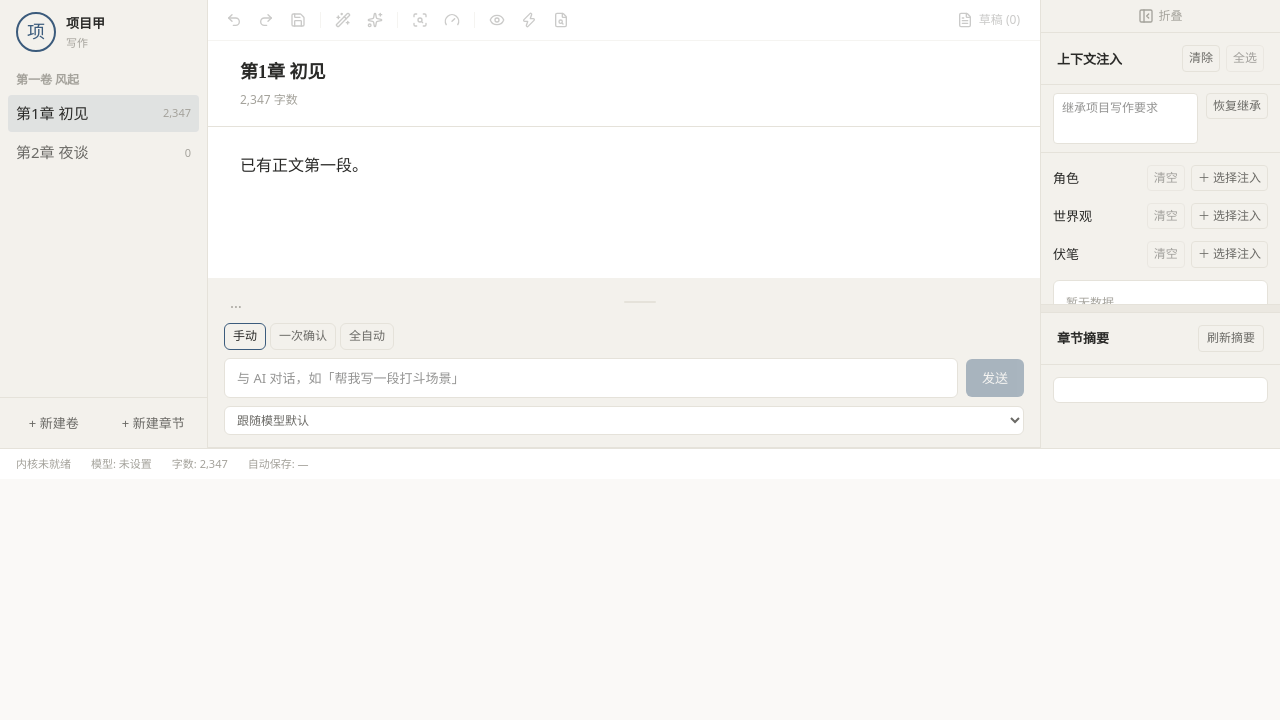
写作页 — 工具栏与快捷键（Q2 拍板 C） › （#1582）「AI 提取」入口 → 走全局 store（两宿主页同一缺陷面同源）
The image size is (1280, 720).
Click the button with test id "extract-entry-write": [561, 20] box [547,6,575,34]
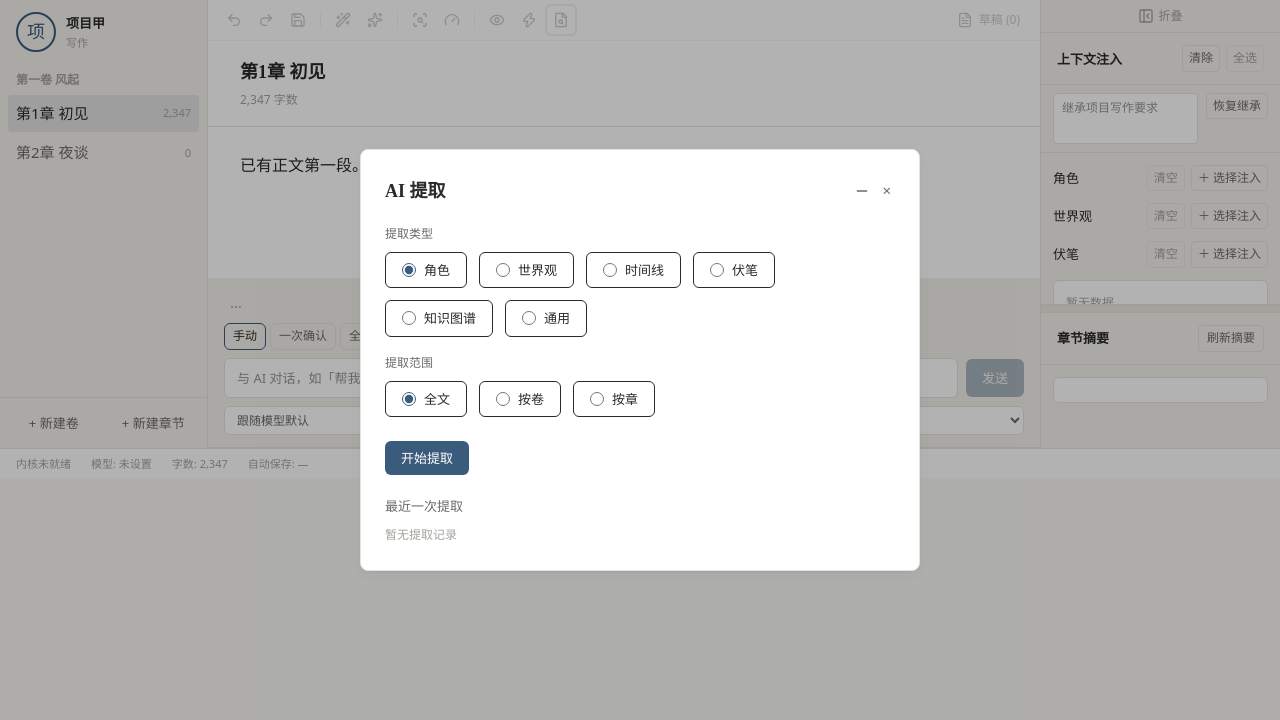
Result: the dialog with test id "ai-extract-dialog" is shown at [360,149,920,570]
